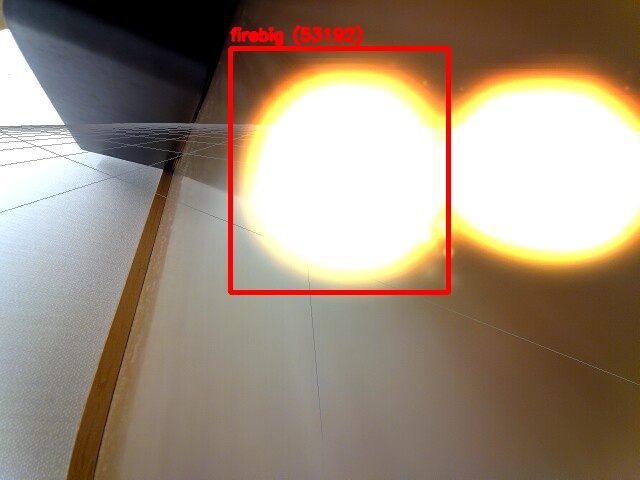firebig: (230, 48, 448, 292)
